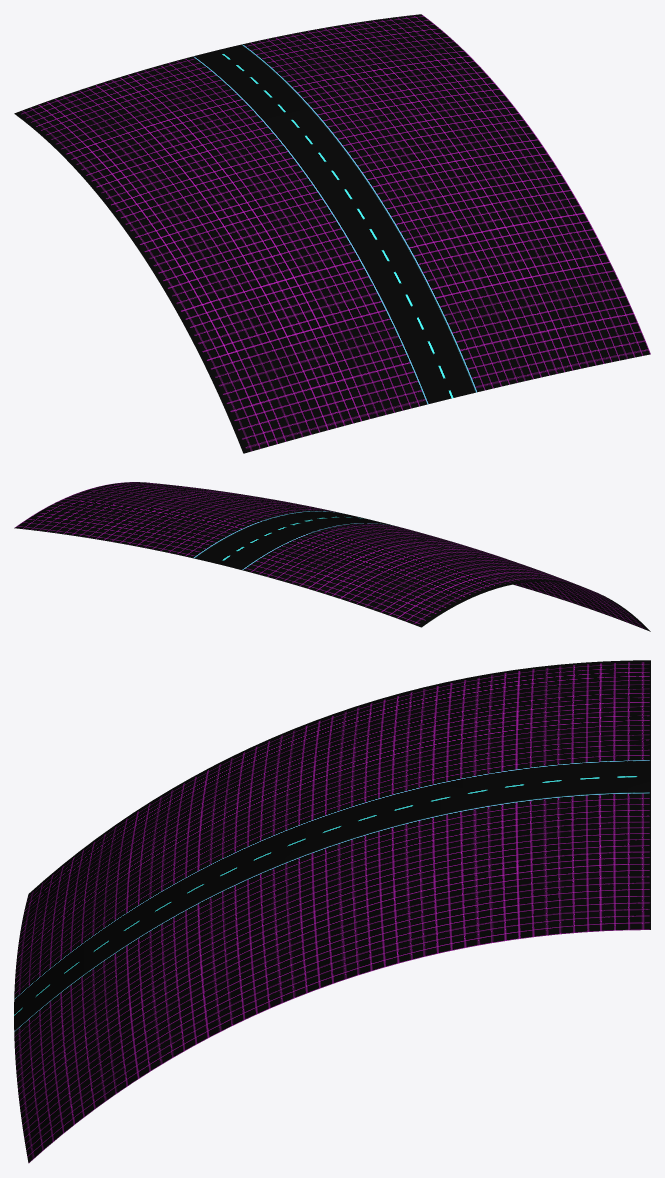
3 renders of one model, top to bottom at view 1: azimuth 30°, elevation 25°; view 2: azimuth 150°, elevation 25°; view 3: azimuth 270°, elevation 25°, orthographic. The views are drawn at different scales.
Parts seen in each view (by area): view 1: Empty_Mesh_2; view 2: Empty_Mesh_2; view 3: Empty_Mesh_2.
Part boxes in pixels (<box>): Empty_Mesh_2: <box>14,14,650,453</box>; Empty_Mesh_2: <box>14,482,650,631</box>; Empty_Mesh_2: <box>14,660,650,1163</box>.
Size of the model in its own units: 1.28 by 0.5563 by 1.27.
Materials: 1 (1 with a texture image).
